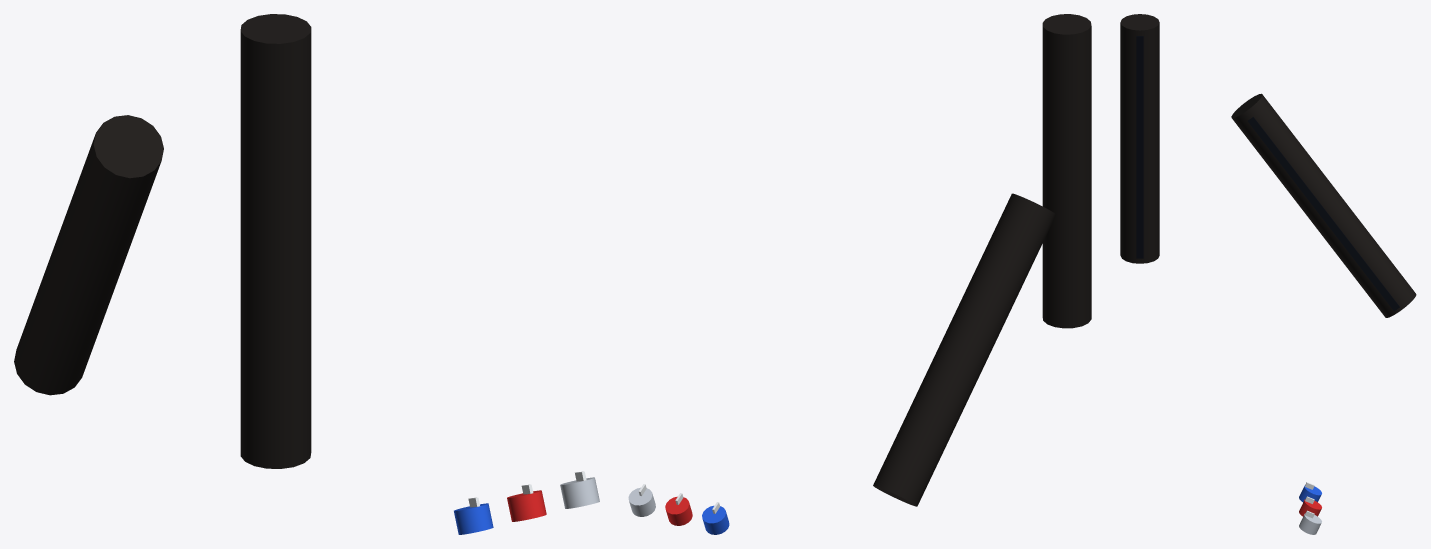
Rendered from rollcage_padding_dials.glb.
3 views of the same model, side by side, from view 1: azimuth 30°, elevation 25°; view 2: azimuth 150°, elevation 25°; view 3: azimuth 270°, elevation 25° (orthographic). The views are drawn at different scales.
Visible parts, largest first — view 1: Roll_Cage_Padding_Console_Dials_Assembly; view 2: Roll_Cage_Padding_Console_Dials_Assembly; view 3: Roll_Cage_Padding_Console_Dials_Assembly.
Boxes of the visible parts, bbox=[...] form: Roll_Cage_Padding_Console_Dials_Assembly: bbox=[14, 14, 599, 534]; Roll_Cage_Padding_Console_Dials_Assembly: bbox=[628, 14, 1091, 534]; Roll_Cage_Padding_Console_Dials_Assembly: bbox=[1120, 14, 1416, 534].
Size of the model in its own units: 0.574 by 0.6983 by 0.4831.
